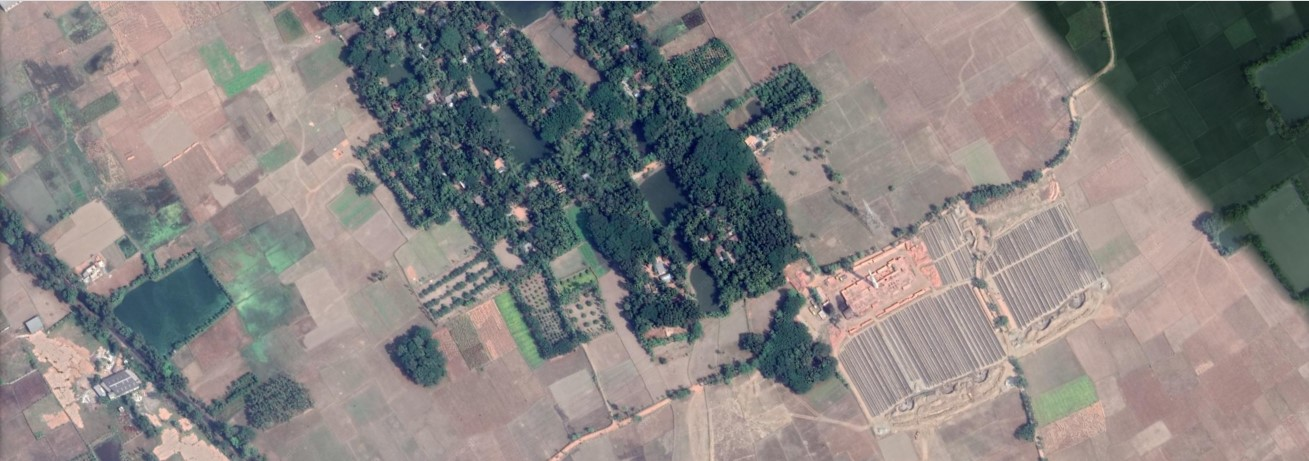kiln: (834, 252, 922, 316)
